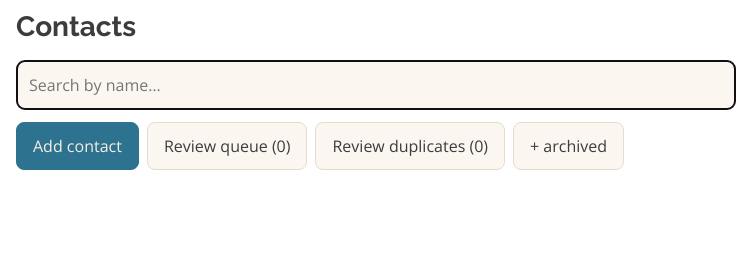
Test: contacts launcher — archive & delete (feature 065) › marks archived rows and searches with ?archived=1 when the toggle is on (C10)
This screenshot has width=753, height=262.
Click the button "+ archived": (568, 146) [513,122,624,170]
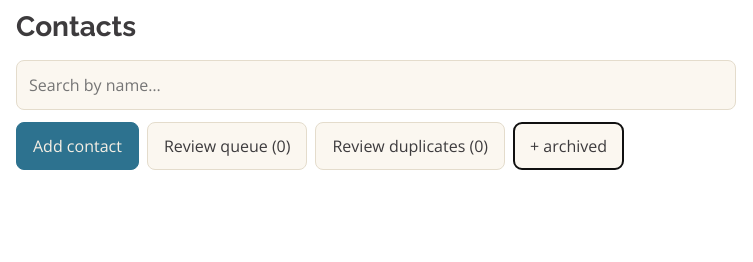
In the field with placeholder "Search by name…": (376, 85) [16,60,736,110], type "jon"
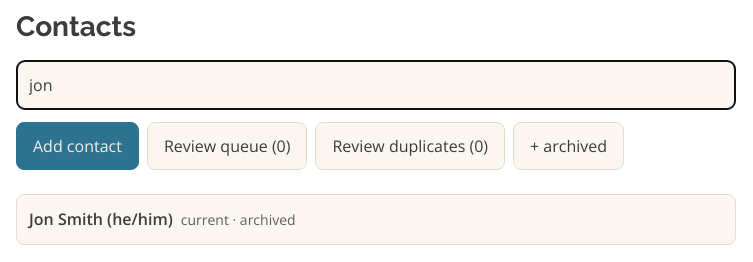
Expected: the text "current · archived" is shown, [181,209,296,231]
